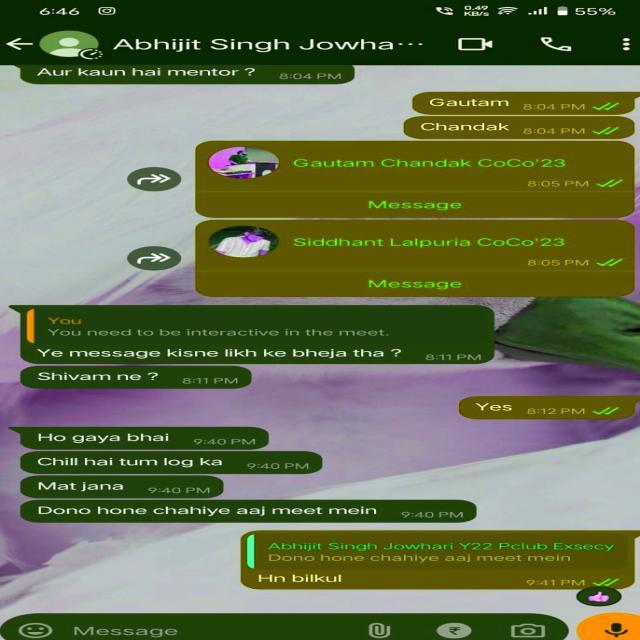scam: (18, 500, 478, 524), (23, 342, 500, 362), (15, 450, 328, 476), (19, 64, 358, 84), (12, 427, 270, 450), (18, 366, 255, 390), (20, 475, 226, 500)
